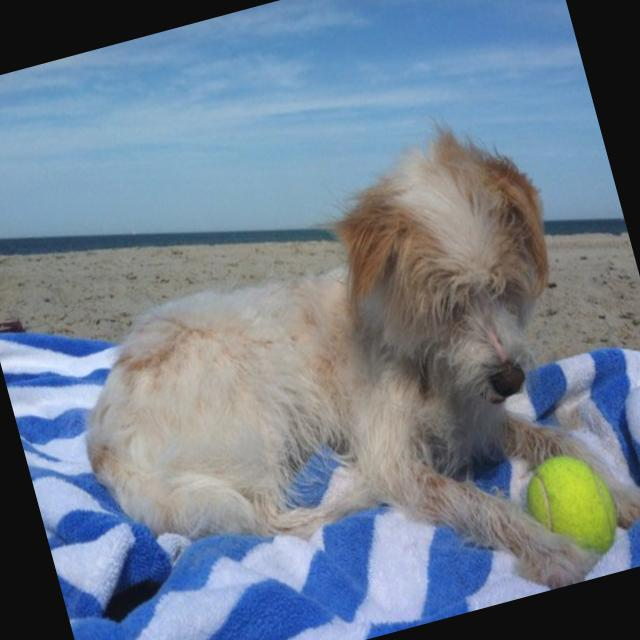Tennis ball: (514, 444, 628, 570)
